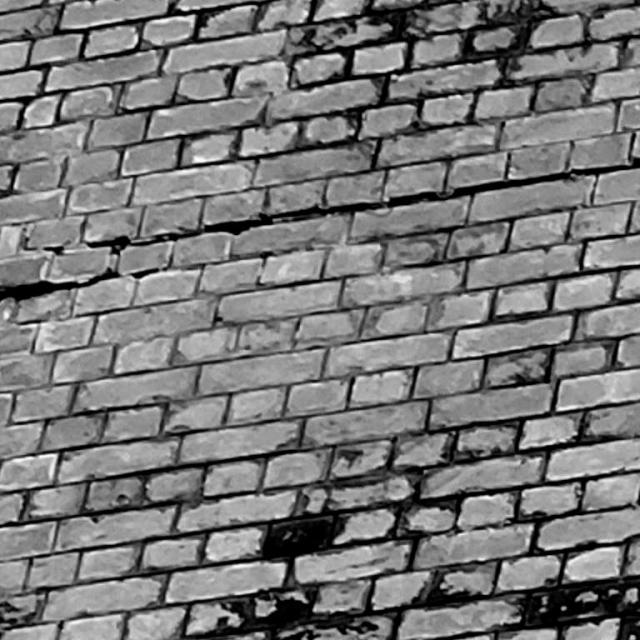crack: (1, 156, 640, 302)
